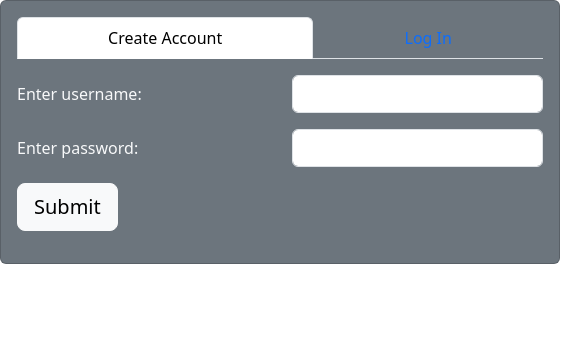
Test: Create Account tab › shows an error alert and does not navigate when registration fails
Click the button "Submit".
click(67, 207)  # box top-left (17, 183), bottom-right (118, 231)
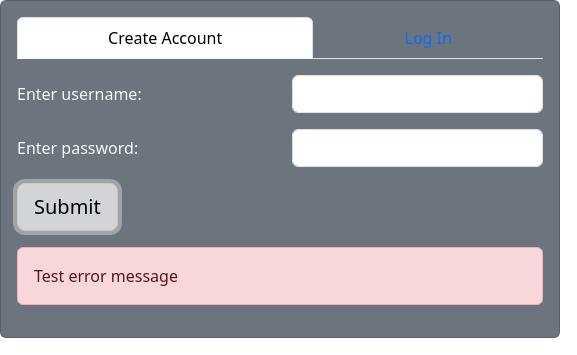
Check: the message reads "Test error message", box top-left (34, 265), bottom-right (178, 287)
